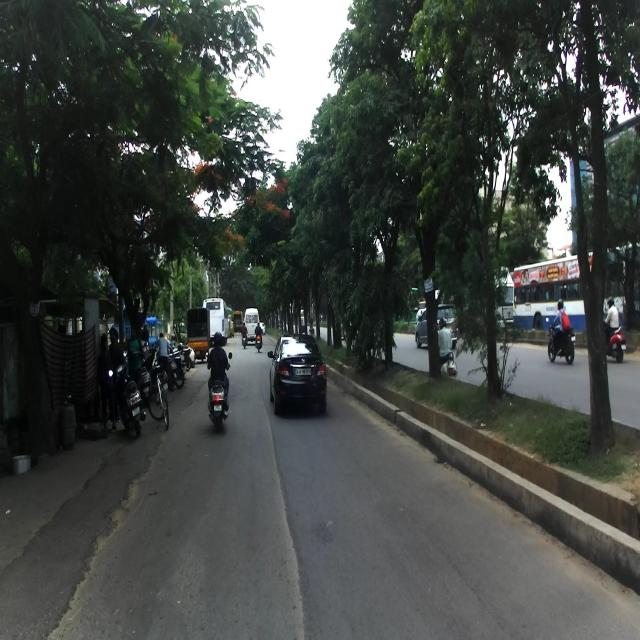bus: (512, 242, 640, 334)
car: (267, 333, 326, 417)
scooter: (107, 348, 146, 437), (205, 351, 232, 431)
